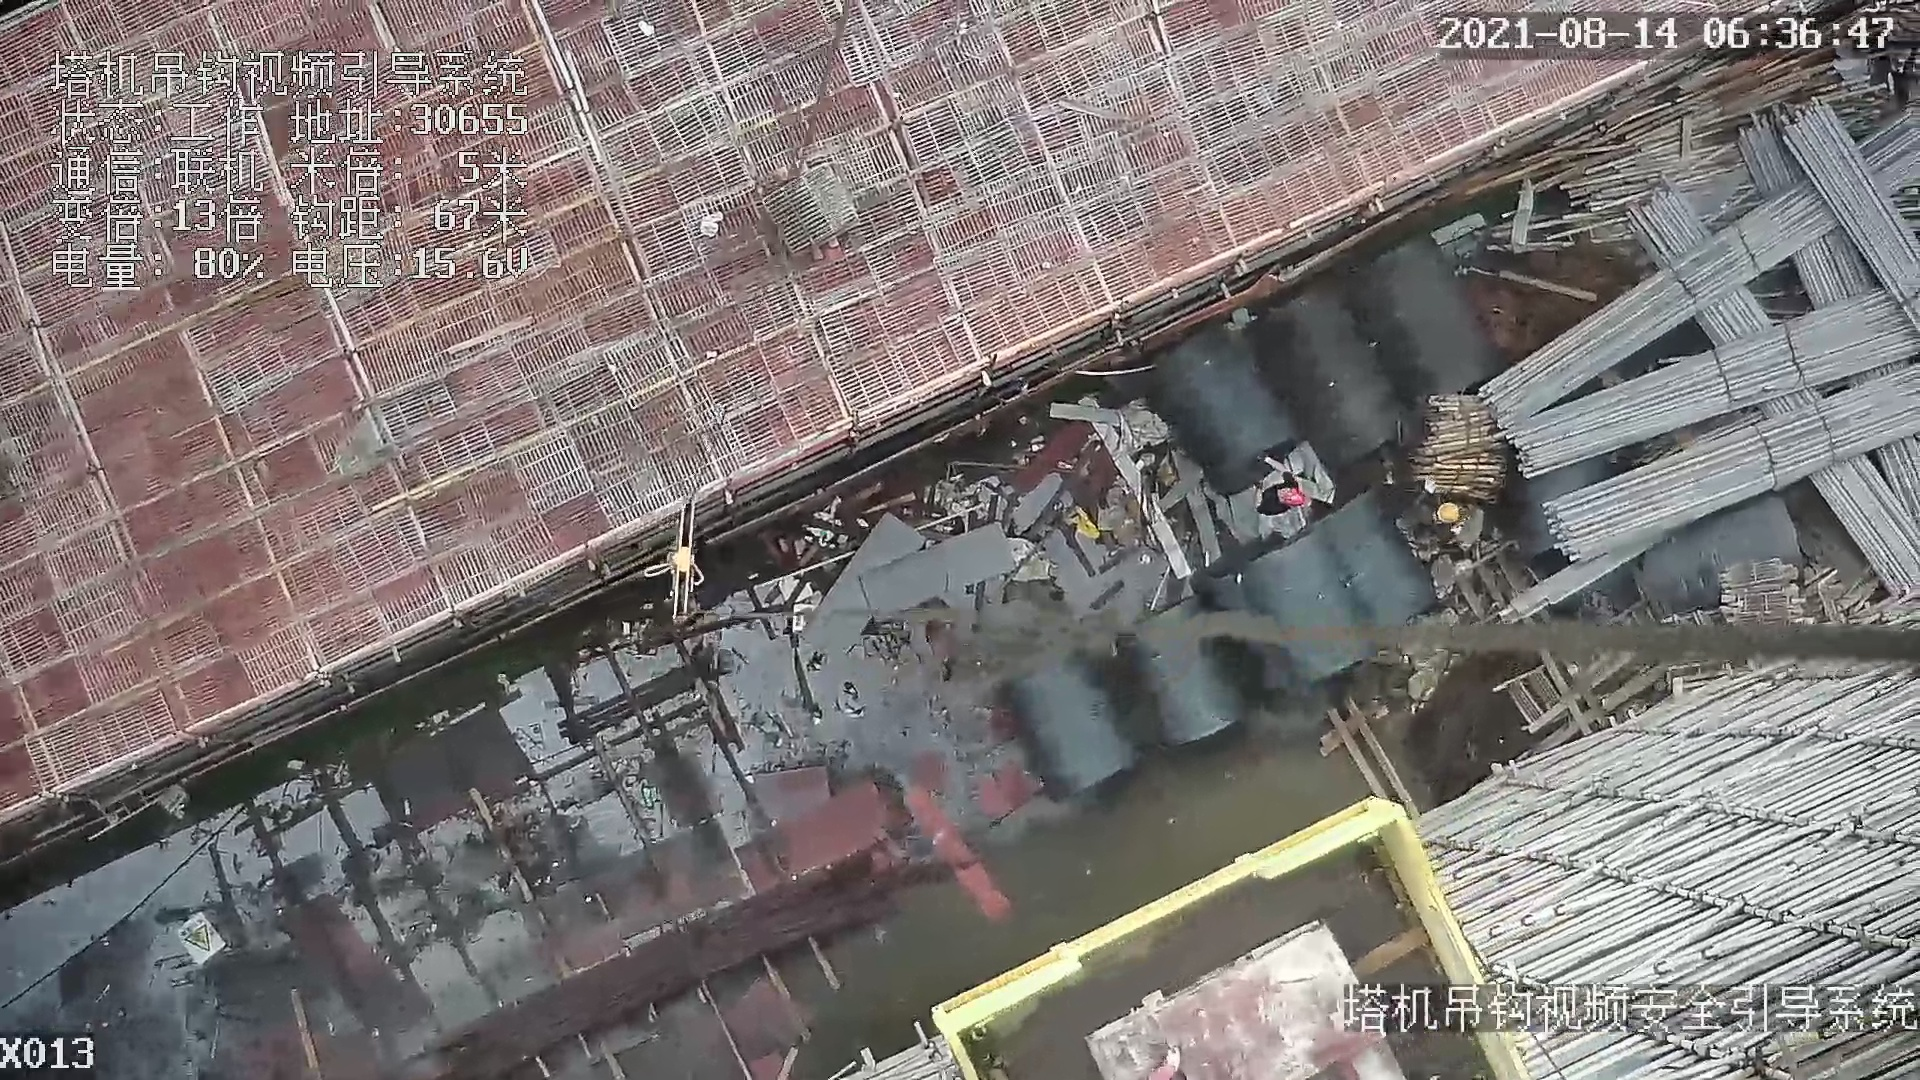helmet: (1435, 501, 1462, 527), (1287, 487, 1308, 516)
hook: (640, 504, 715, 615)
scaffold: (1495, 91, 1920, 596), (1399, 381, 1531, 502)
